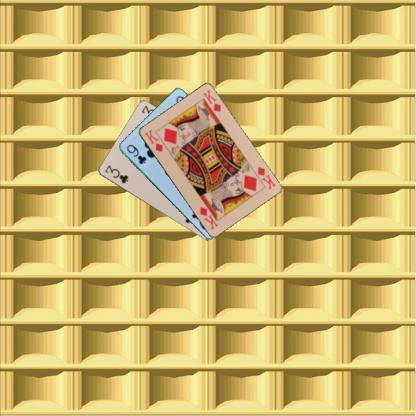3c: (102, 162, 130, 185)
9c: (124, 142, 147, 165)
Kd: (254, 164, 277, 191), (142, 127, 164, 153)
